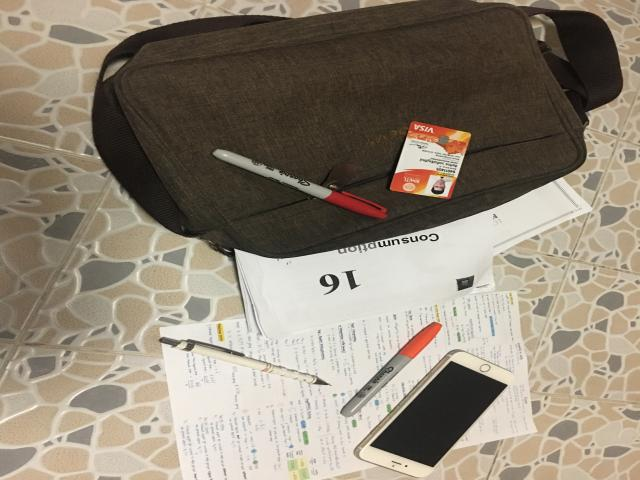Mobile phone: (353, 350, 515, 477)
Pen: (212, 149, 387, 218), (342, 322, 442, 416), (160, 338, 330, 385)
paper: (160, 292, 537, 480), (235, 178, 592, 338)
